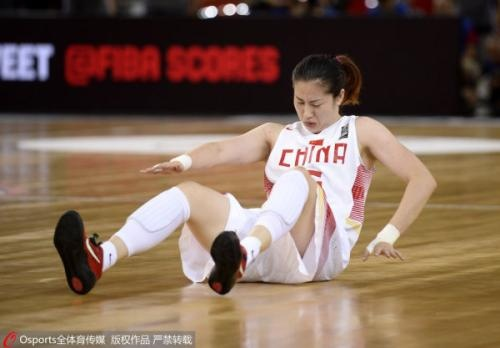falling: (49, 38, 436, 304)
